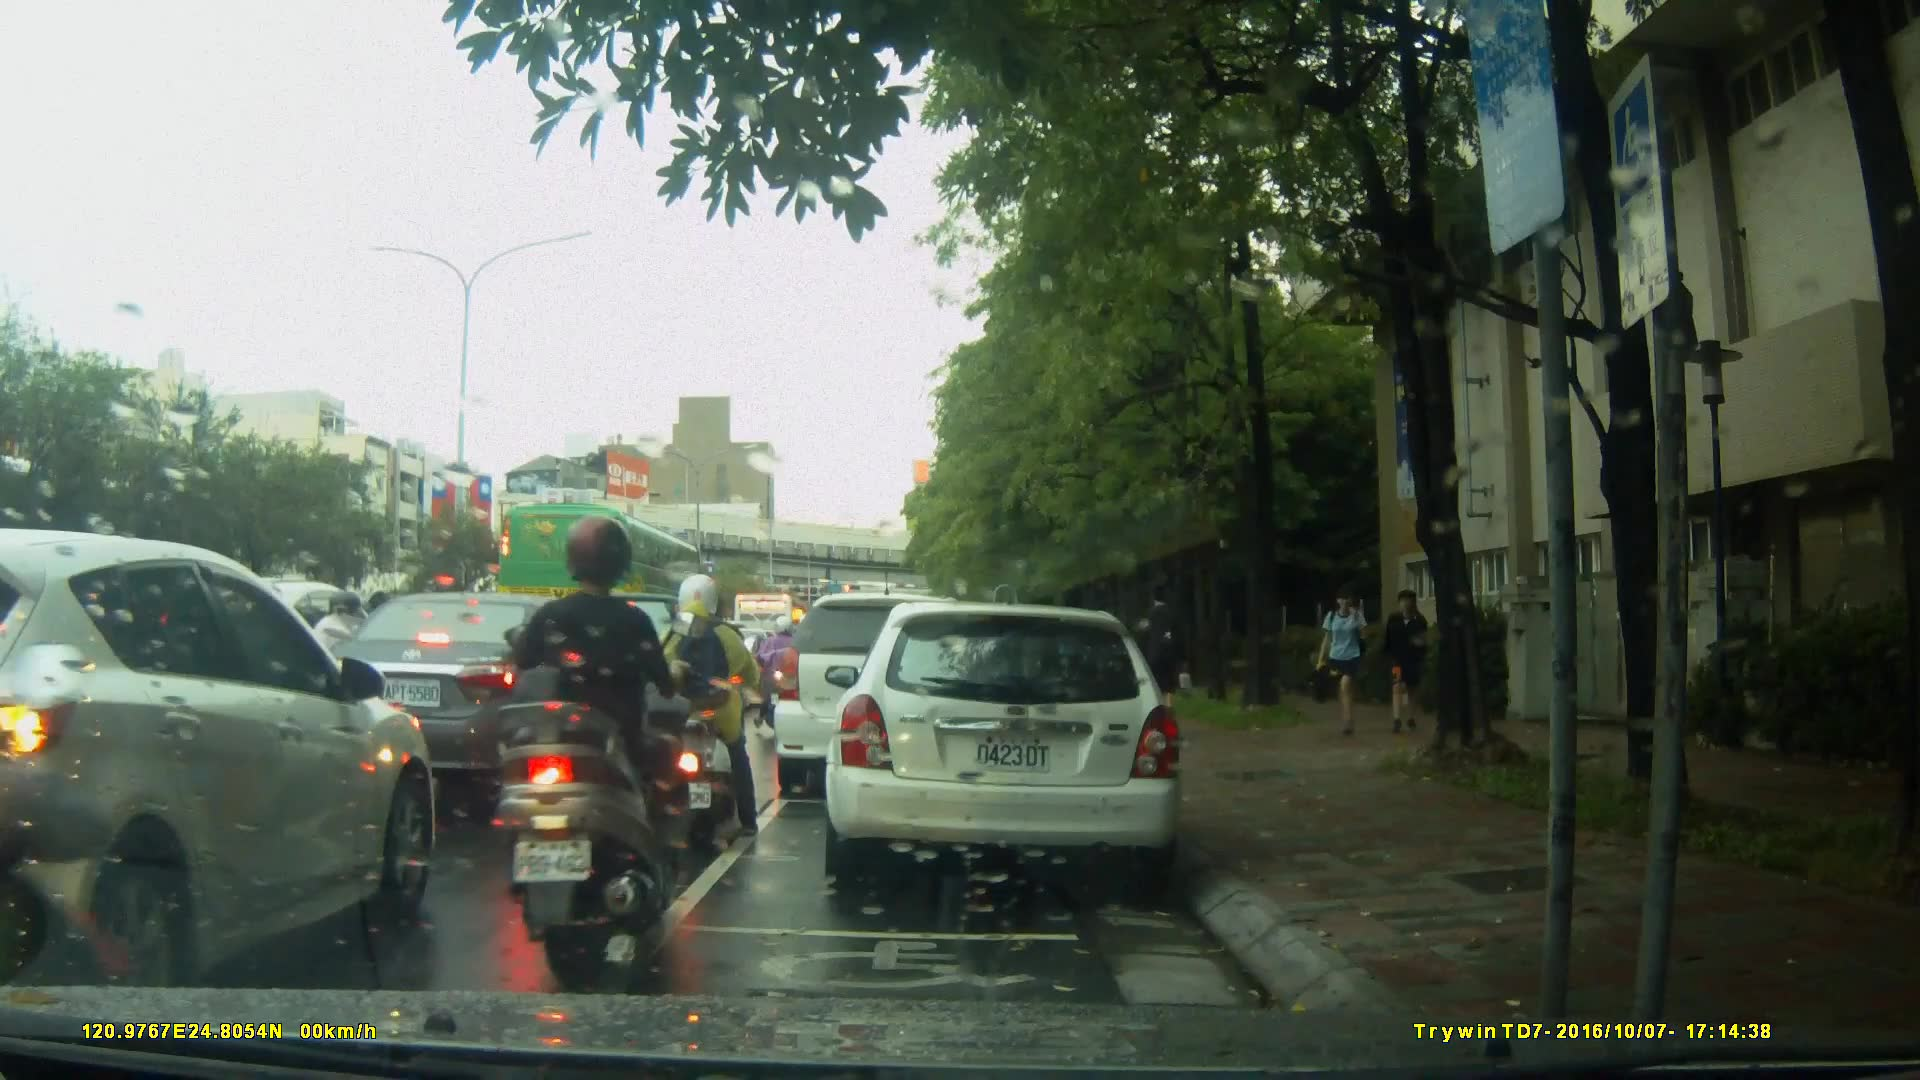pedestrian: (1304, 585, 1371, 742), (1139, 590, 1190, 746), (1379, 581, 1427, 739)
rider: (480, 519, 674, 981), (651, 569, 764, 841), (754, 612, 813, 728)
vehicle: (1, 529, 444, 987), (831, 592, 1196, 897), (312, 590, 650, 807), (770, 592, 999, 801), (495, 502, 707, 639)
